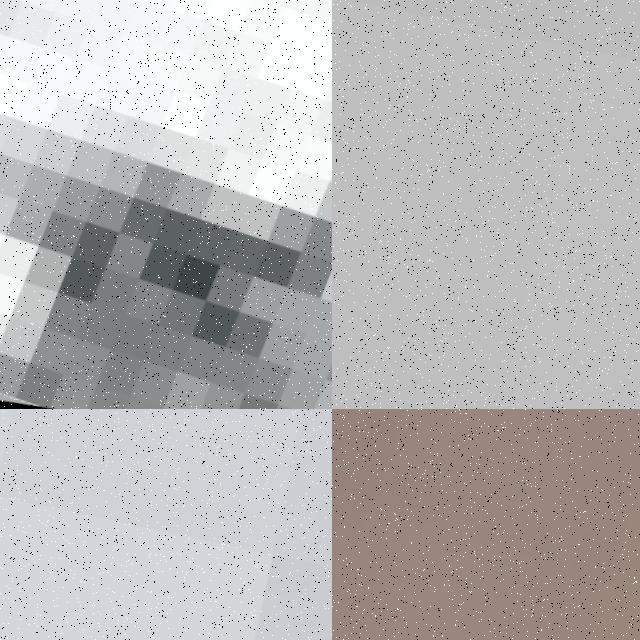0: (0, 0, 332, 409)
drone: (332, 409, 640, 640)
